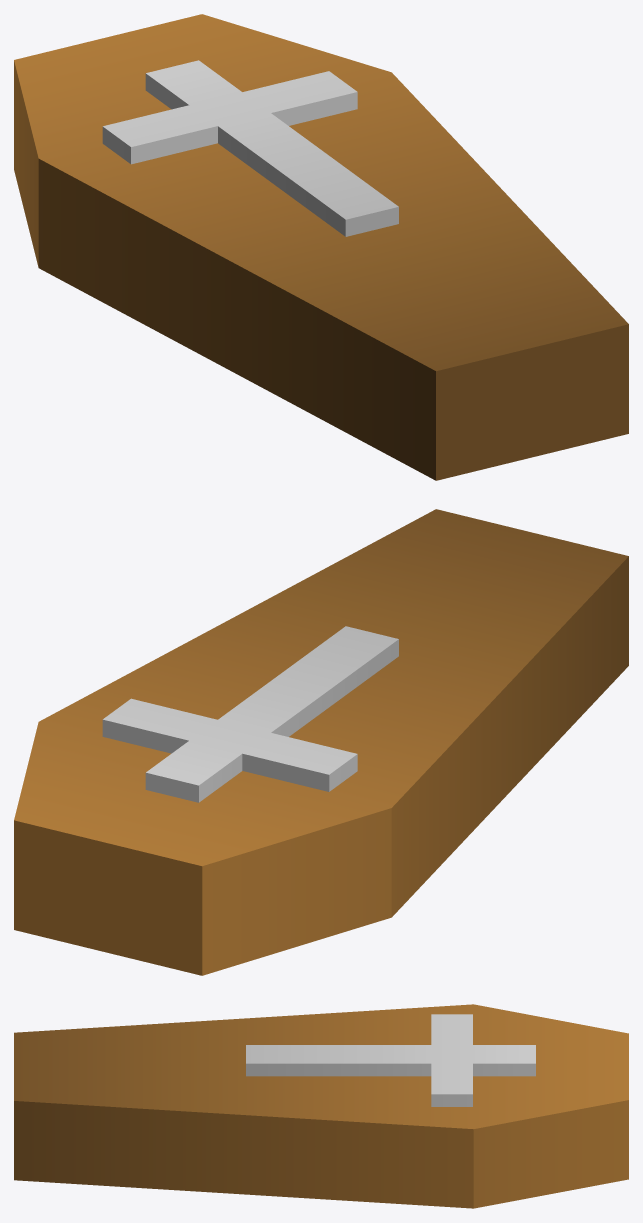
File: coffin.fbx
3 views of the same model, one above another, from view 1: azimuth 30°, elevation 25°; view 2: azimuth 150°, elevation 25°; view 3: azimuth 270°, elevation 25° (orthographic). The views are drawn at different scales.
Visible parts, largest first — view 1: coffin; view 2: coffin; view 3: coffin.
Boxes of the visible parts, x1,y1,x2,y2 form: coffin: (14,14,628,480); coffin: (14,509,628,975); coffin: (14,1004,628,1208).
Size of the model in its own units: 102 by 34.86 by 211.
